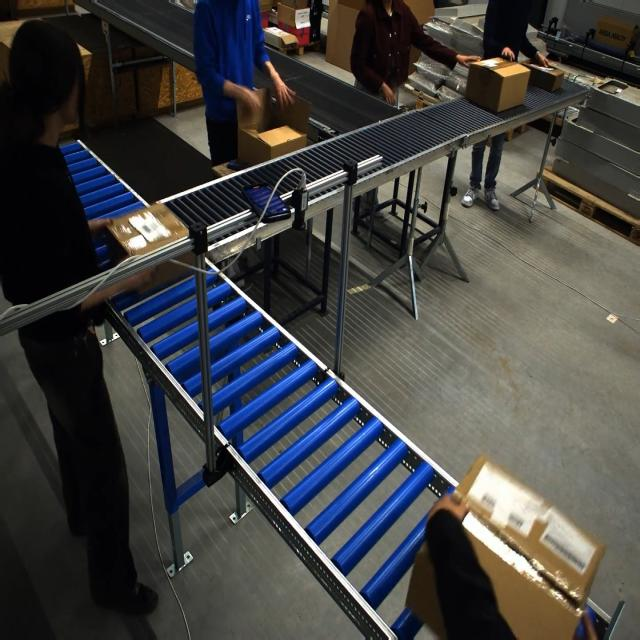box: (410, 460, 612, 640), (103, 204, 193, 286), (235, 86, 311, 169), (464, 56, 528, 113), (519, 60, 565, 92)
product: (227, 161, 251, 171)
